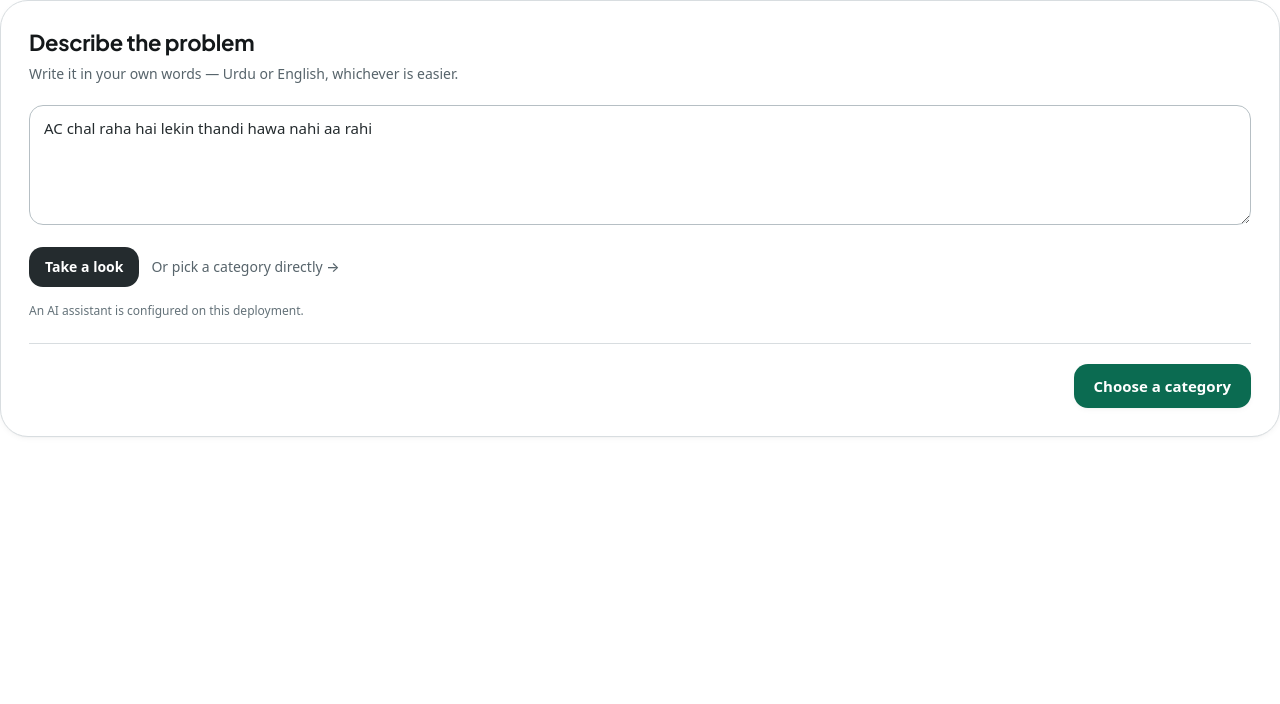
Test: intake step › puts a safety warning in an alert region above everything else
The image size is (1280, 704).
Click the button "Take a look". click: (84, 267)
box: [29, 247, 139, 287]
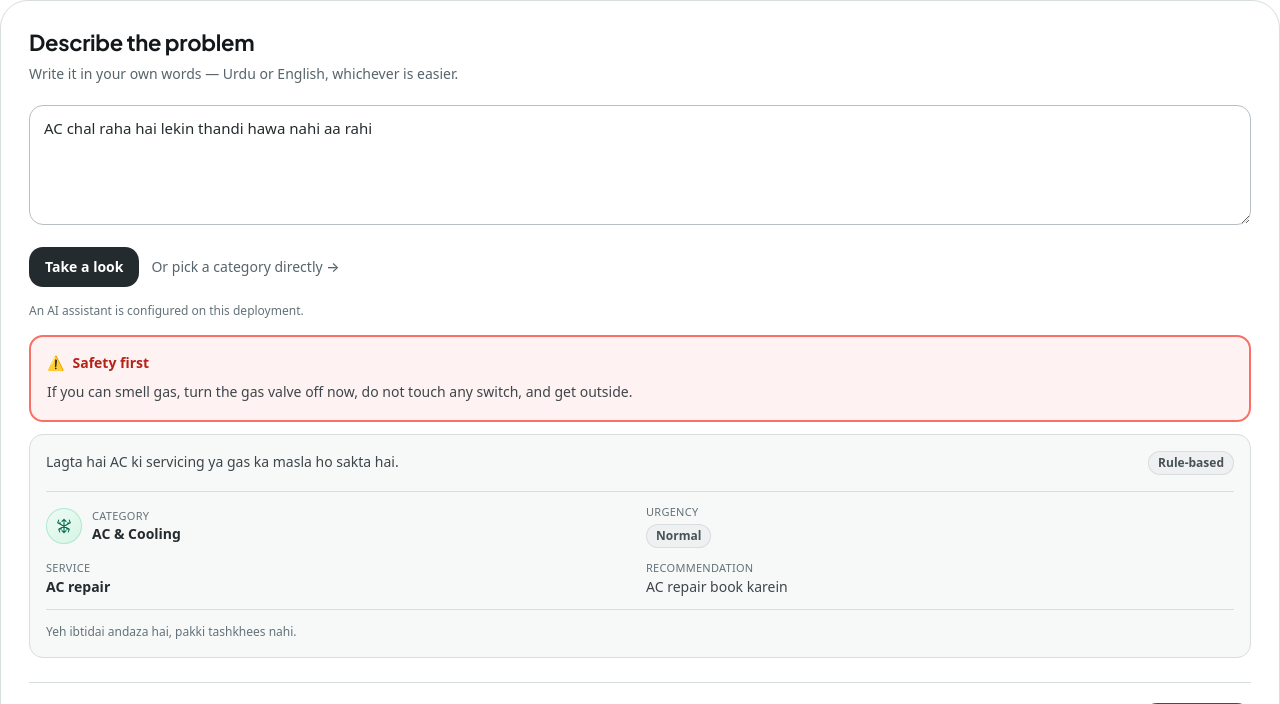
Result: the message shows "turn the gas valve off" at [47, 382, 632, 401]
